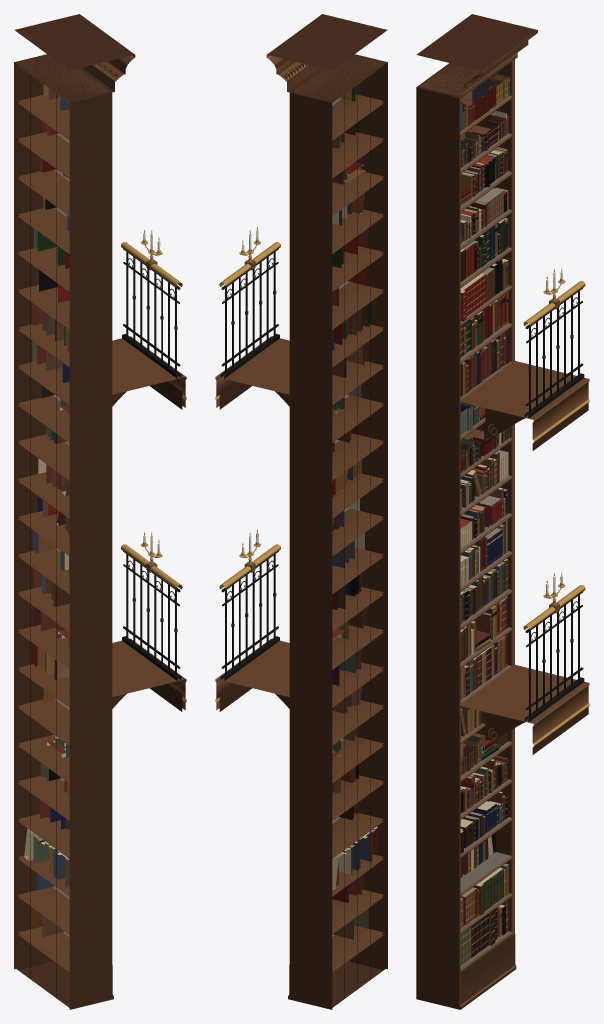
The model's file is library_wall_lamp.glb.
The picture shows the model from 3 angles, left to right: view 1: azimuth 30°, elevation 25°; view 2: azimuth 150°, elevation 25°; view 3: azimuth 330°, elevation 25°; orthographic projection.
Parts seen in each view (by area): view 1: regalwand; view 2: regalwand; view 3: regalwand.
Boxes of the visible parts, left/top/right/bottom form: regalwand: left=14, top=14, right=186, bottom=1009; regalwand: left=215, top=14, right=387, bottom=1009; regalwand: left=416, top=14, right=589, bottom=1009.
Size of the model in its own units: 1.22 by 9.32 by 1.
